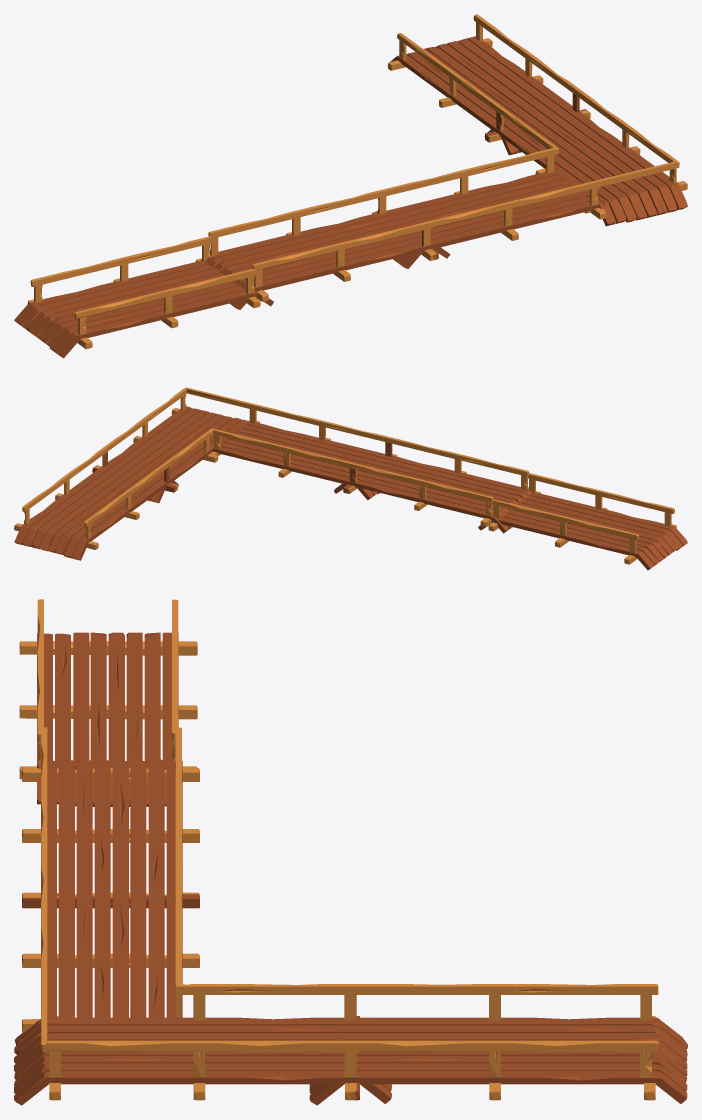
Rendered from bridge05.fbx.
3 renders of one model, top to bottom at view 1: azimuth 30°, elevation 25°; view 2: azimuth 150°, elevation 25°; view 3: azimuth 270°, elevation 25°, orthographic. The views are drawn at different scales.
Parts seen in each view (by area): view 1: polySurface1811; view 2: polySurface1811; view 3: polySurface1811.
Part boxes in pixels (left/top/right/bottom): polySurface1811: left=14, top=14, right=687, bottom=358; polySurface1811: left=14, top=387, right=687, bottom=570; polySurface1811: left=14, top=599, right=687, bottom=1105.
Bounding box in the file's own units: 1472 × 99.81 × 892.
